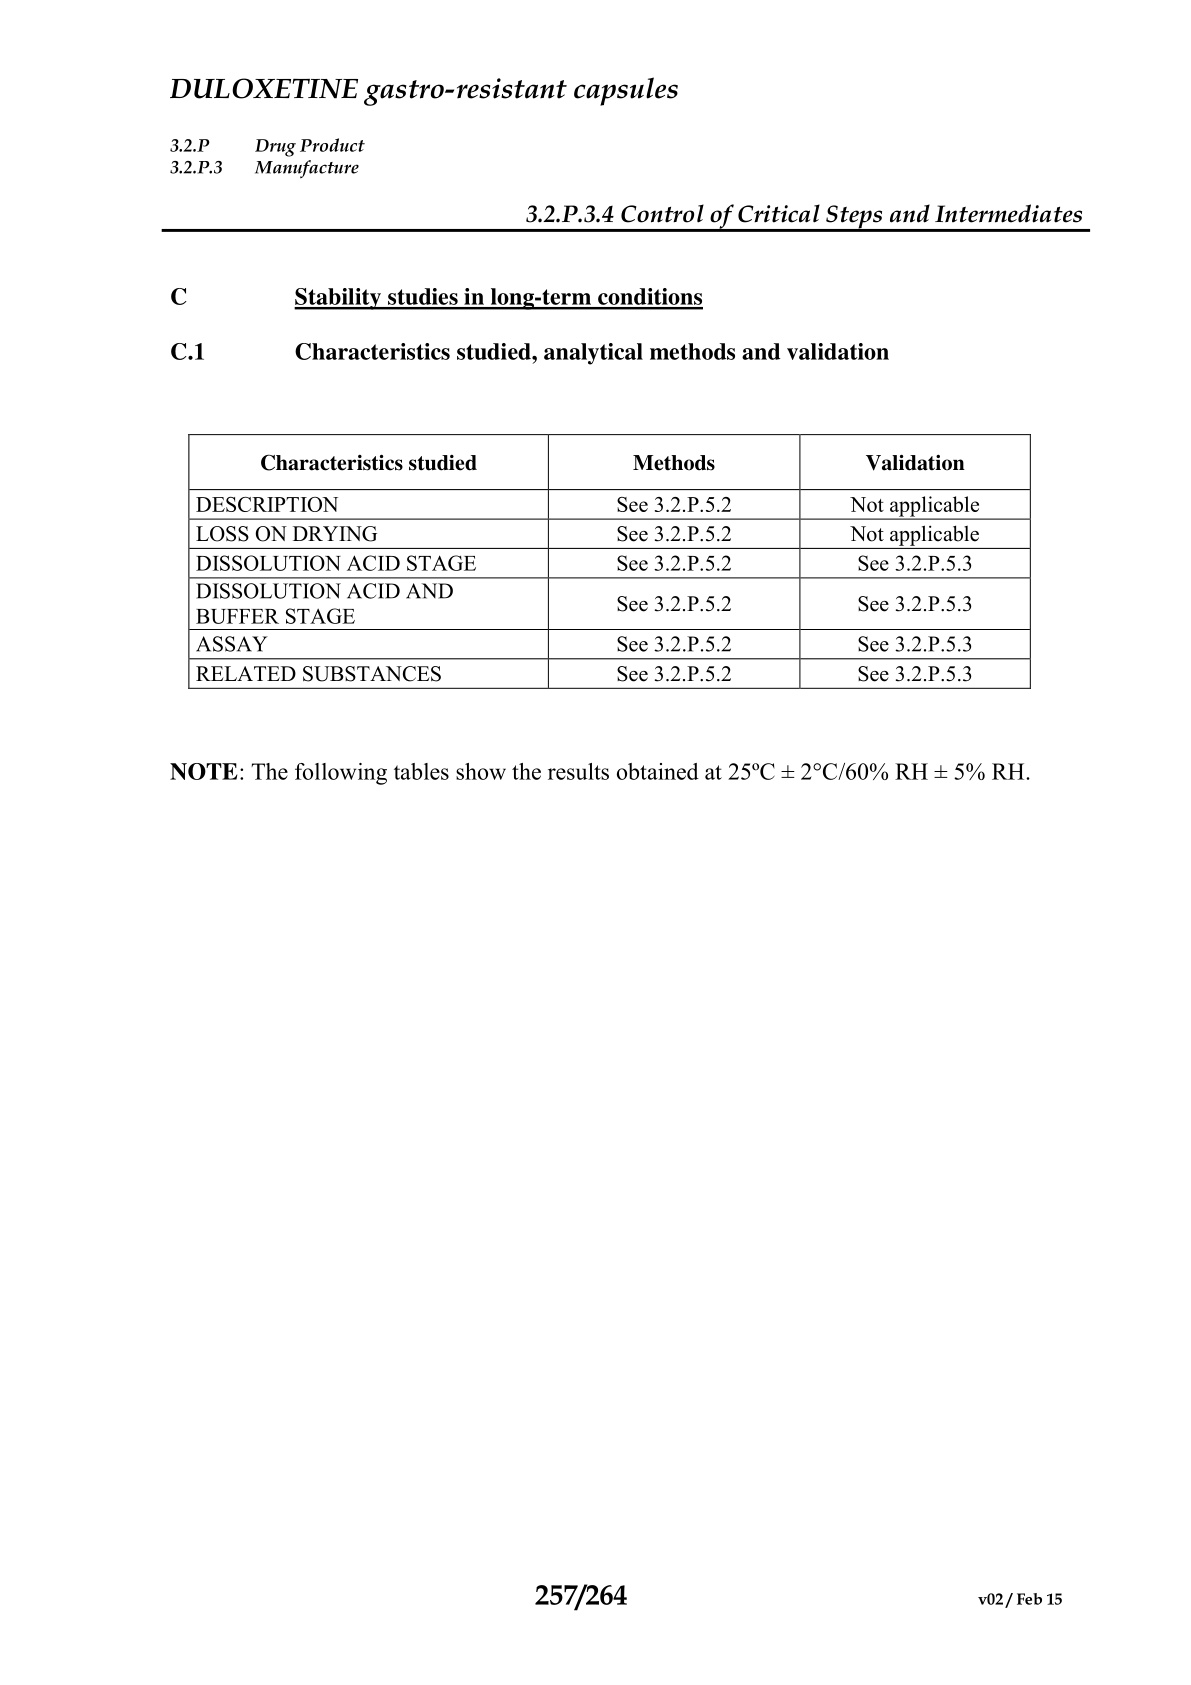full_lined: (177, 414, 1049, 716)
